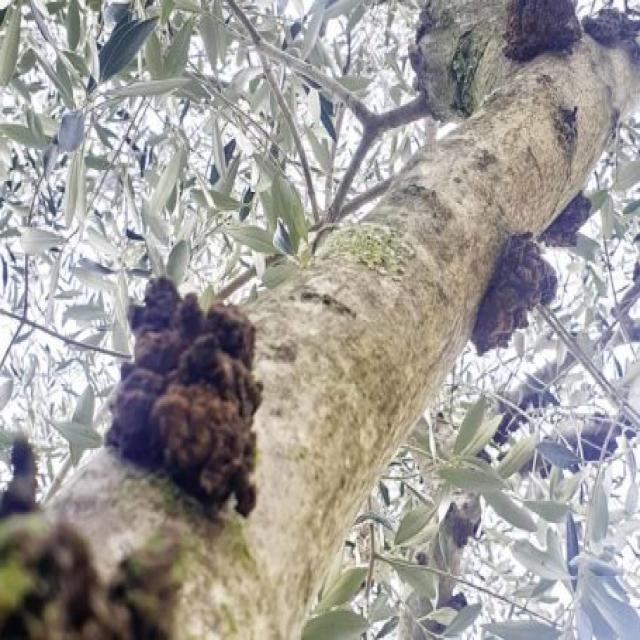Tuberculosis: (106, 276, 262, 519), (471, 232, 554, 353), (504, 0, 580, 62), (582, 8, 638, 46), (546, 203, 592, 247)
